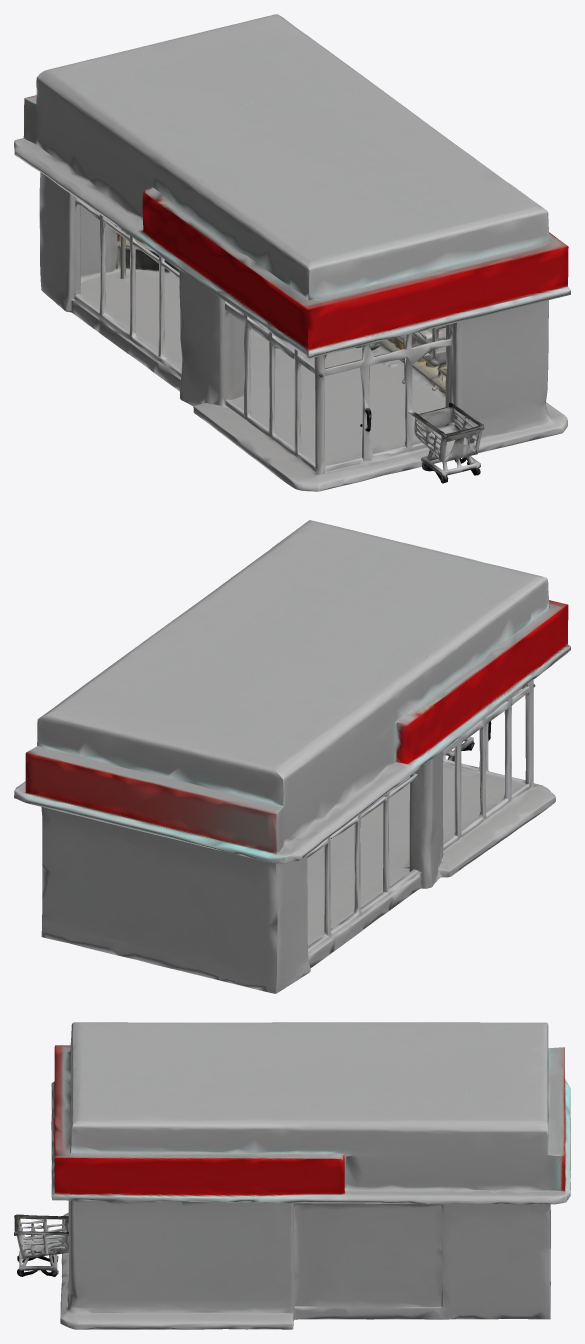
The model's file is market.glb.
3 renders of one model, top to bottom at view 1: azimuth 30°, elevation 25°; view 2: azimuth 150°, elevation 25°; view 3: azimuth 270°, elevation 25°, orthographic. The views are drawn at different scales.
Parts seen in each view (by area): view 1: tripo_node_04102744-9a7b-476e-827d-a4a8f4c42d12; view 2: tripo_node_04102744-9a7b-476e-827d-a4a8f4c42d12; view 3: tripo_node_04102744-9a7b-476e-827d-a4a8f4c42d12.
Part boxes in pixels (<box>): tripo_node_04102744-9a7b-476e-827d-a4a8f4c42d12: <box>14,14,570,491</box>; tripo_node_04102744-9a7b-476e-827d-a4a8f4c42d12: <box>14,520,570,993</box>; tripo_node_04102744-9a7b-476e-827d-a4a8f4c42d12: <box>14,1022,570,1329</box>.
Size of the model in its own units: 0.5228 by 0.391 by 1.
Materials: 1 (1 with a texture image).
